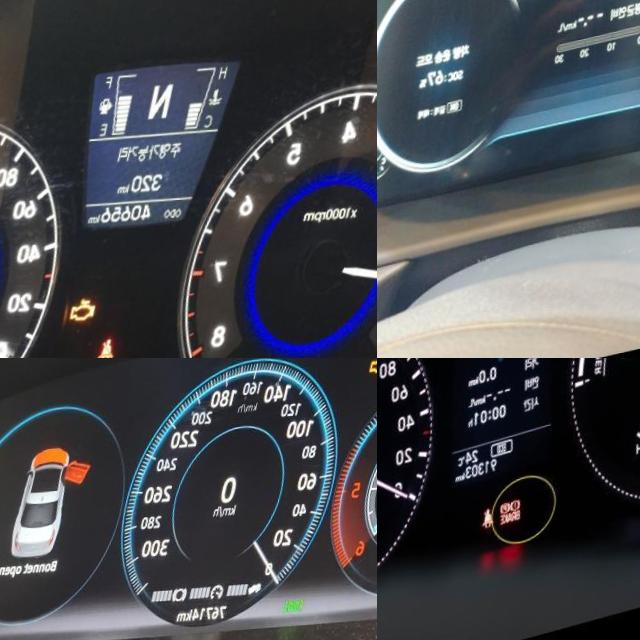SideLamp: (304, 602, 327, 619)
